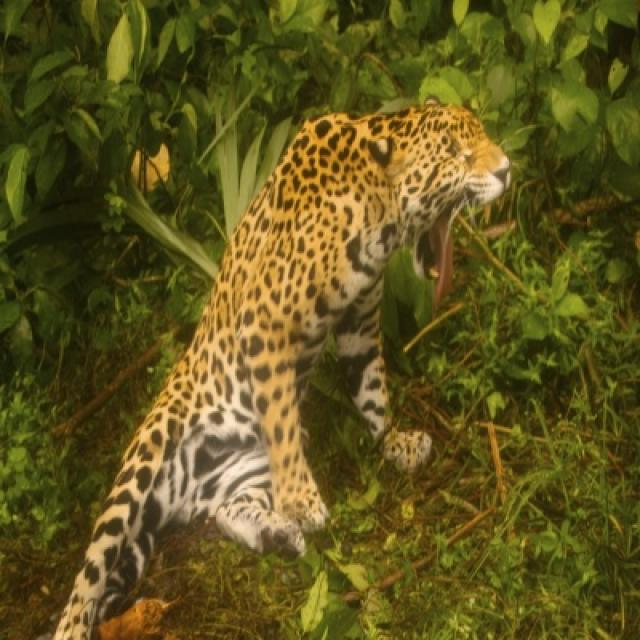Jaguar: (50, 99, 512, 638)
